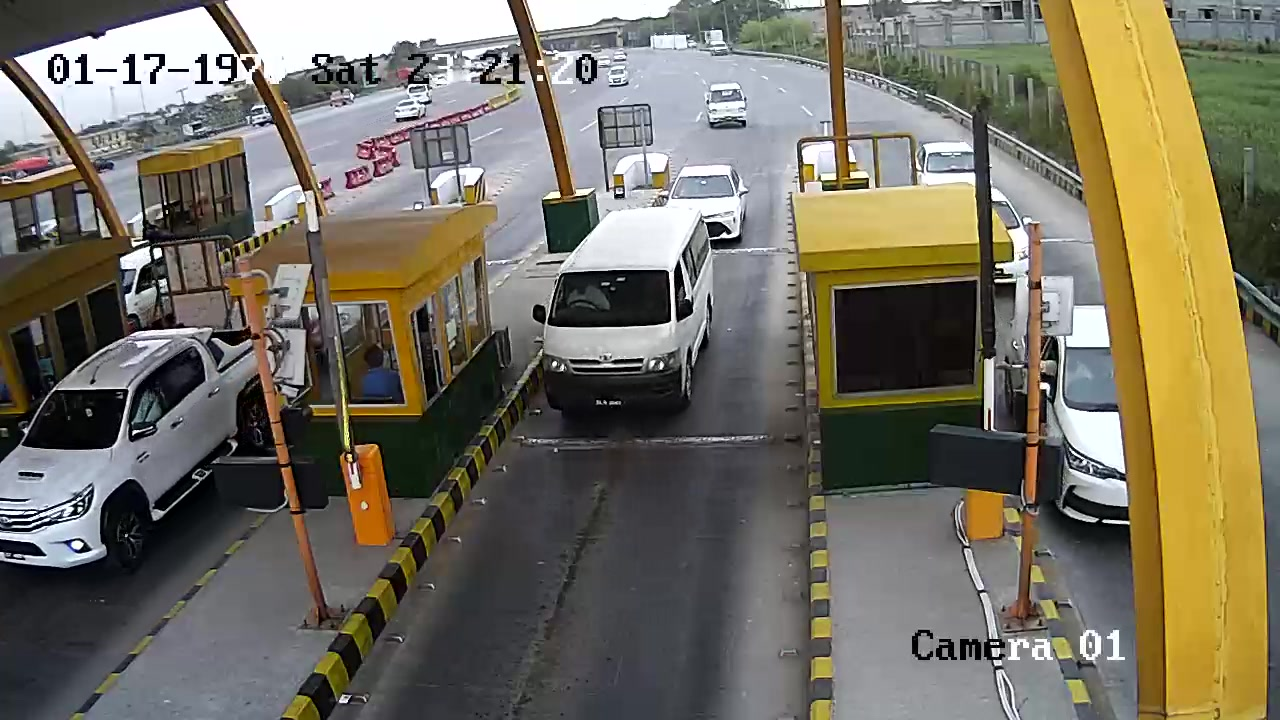F2: (543, 201, 718, 442)
